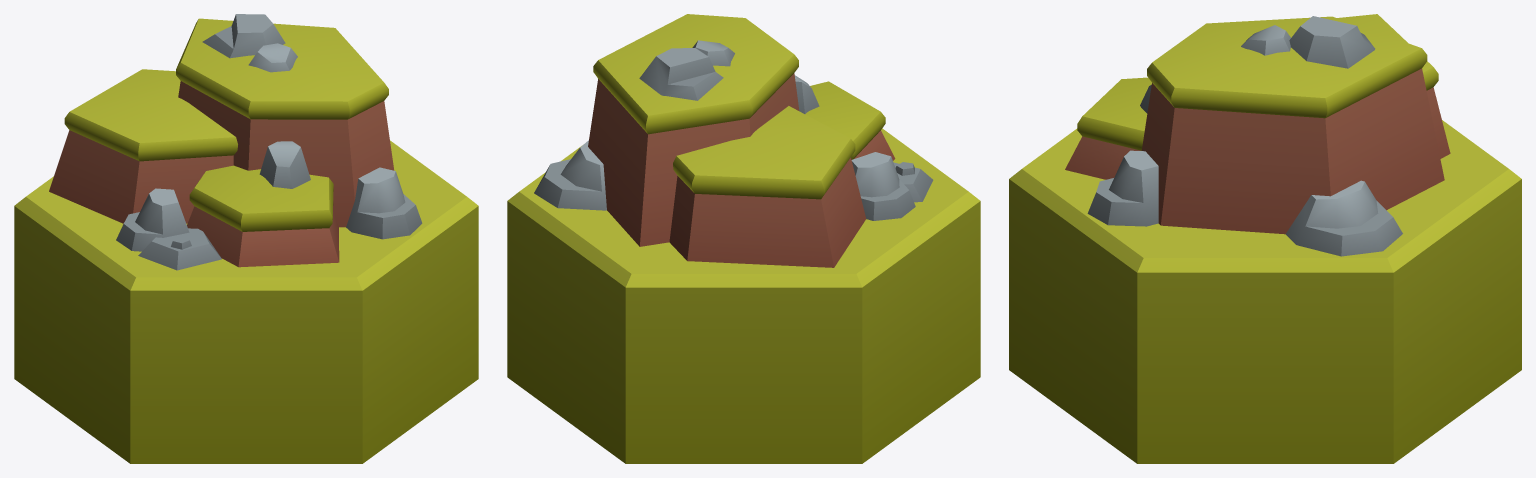
The model's file is hex_hills_a.glb.
The picture shows the model from 3 angles, left to right: view 1: azimuth 30°, elevation 25°; view 2: azimuth 150°, elevation 25°; view 3: azimuth 270°, elevation 25°; orthographic projection. The views are drawn at different scales.
Visible parts, largest first — view 1: hex_grass; view 2: hex_grass; view 3: hex_grass.
Boxes of the visible parts, box(x1,y1,x2,y2) form: hex_grass: box(14, 14, 478, 463); hex_grass: box(507, 14, 980, 463); hex_grass: box(1009, 14, 1521, 463).
Bounding box in the file's own units: 1 × 0.8971 × 1.15.
1 material, 1 textured.
